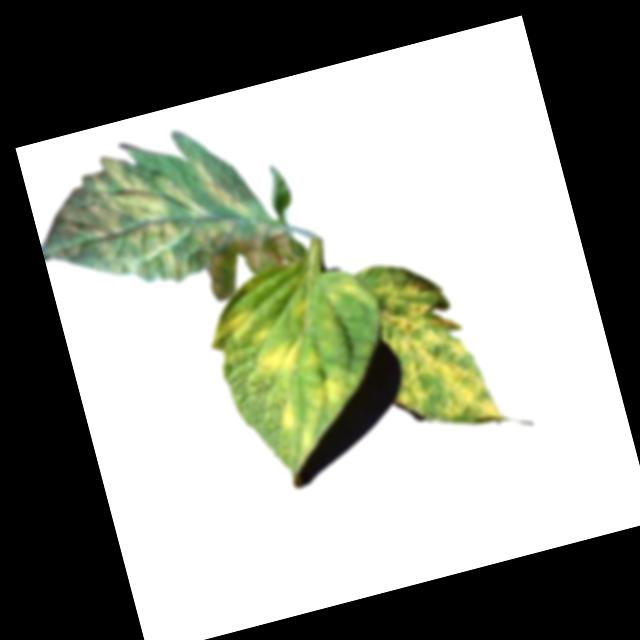Leaf_Mold: (20, 108, 291, 325), (365, 236, 506, 443), (252, 332, 328, 384), (204, 305, 271, 355), (322, 269, 370, 317), (306, 370, 355, 412), (274, 397, 304, 438)
